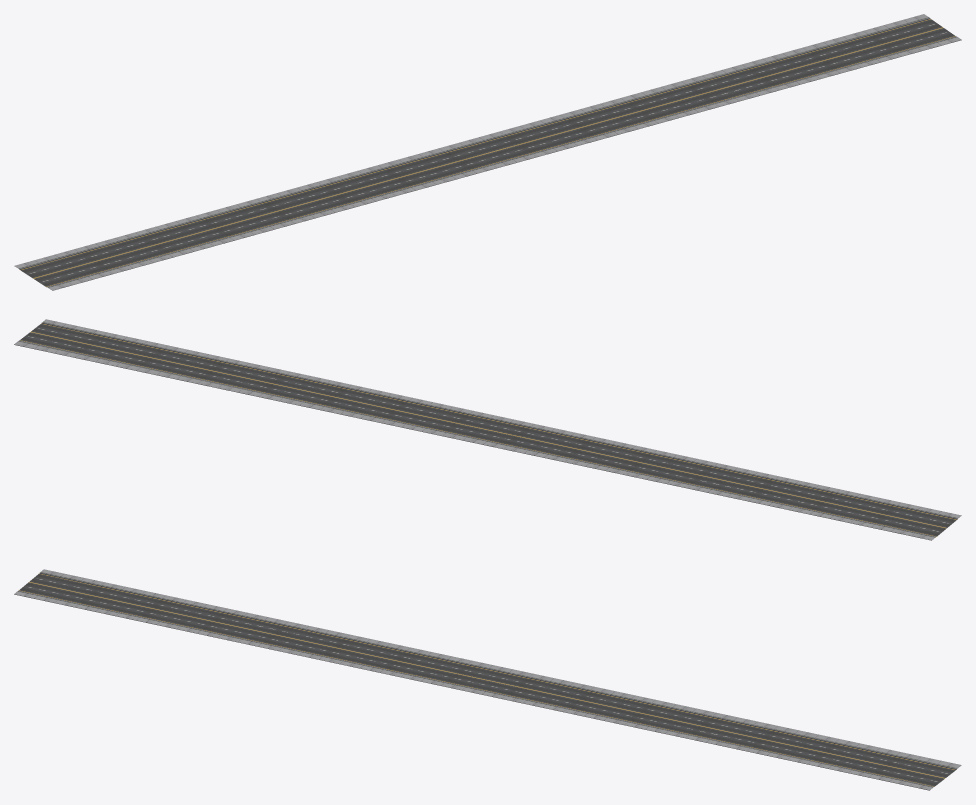
The model's file is road16.glb.
The picture shows the model from 3 angles, top to bottom: view 1: azimuth 30°, elevation 25°; view 2: azimuth 150°, elevation 25°; view 3: azimuth 330°, elevation 25°; orthographic projection. The views are drawn at different scales.
Visible parts, largest first — view 1: Road_4X_Straight_City_Road_mat_0.005; view 2: Road_4X_Straight_City_Road_mat_0.005; view 3: Road_4X_Straight_City_Road_mat_0.005.
Part boxes in pixels (x1,y1,x2,y2): Road_4X_Straight_City_Road_mat_0.005: [14, 14, 961, 290]; Road_4X_Straight_City_Road_mat_0.005: [14, 319, 961, 540]; Road_4X_Straight_City_Road_mat_0.005: [14, 569, 961, 790].
Size of the model in its own units: 472 by 0.1636 by 56.78.
1 material, 1 textured.
